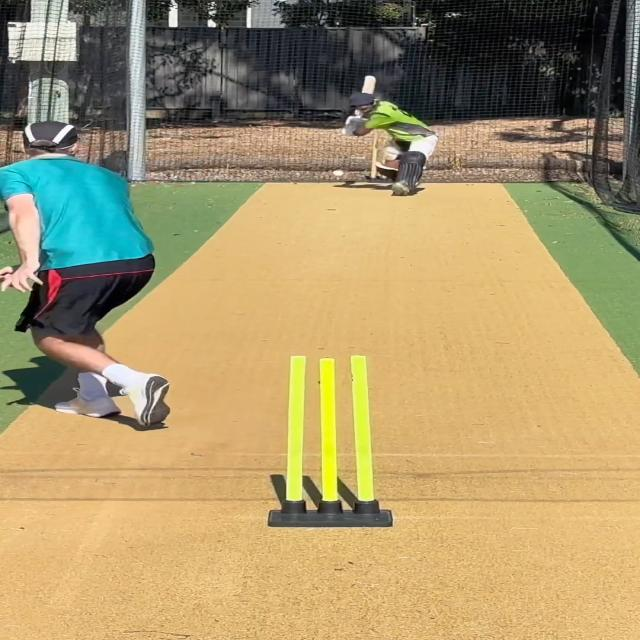ball: (333, 169, 347, 178)
stump: (265, 353, 395, 528)
